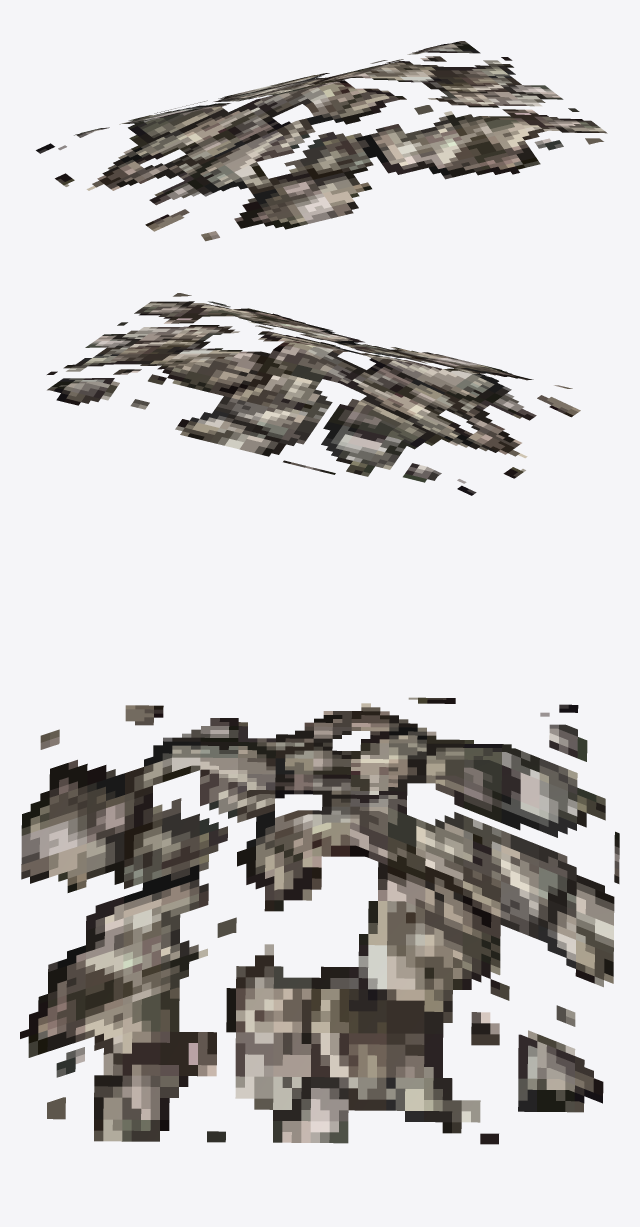
File: Environment - Prop - Concrete Wall 01 - PMWalCmnt2_R.glb
3 renders of one model, top to bottom at view 1: azimuth 30°, elevation 25°; view 2: azimuth 150°, elevation 25°; view 3: azimuth 270°, elevation 25°, orthographic. The views are drawn at different scales.
Parts seen in each view (by area): view 1: PMWALCMNT2_R; view 2: PMWALCMNT2_R; view 3: PMWALCMNT2_R.
Boxes of the visible parts, x1,y1,x2,y2 form: PMWALCMNT2_R: (36, 41, 607, 241); PMWALCMNT2_R: (47, 293, 580, 495); PMWALCMNT2_R: (20, 697, 619, 1144).
Size of the model in its own units: 30.32 by 7.32 by 14.39.
Materials: 2 (2 with a texture image).
